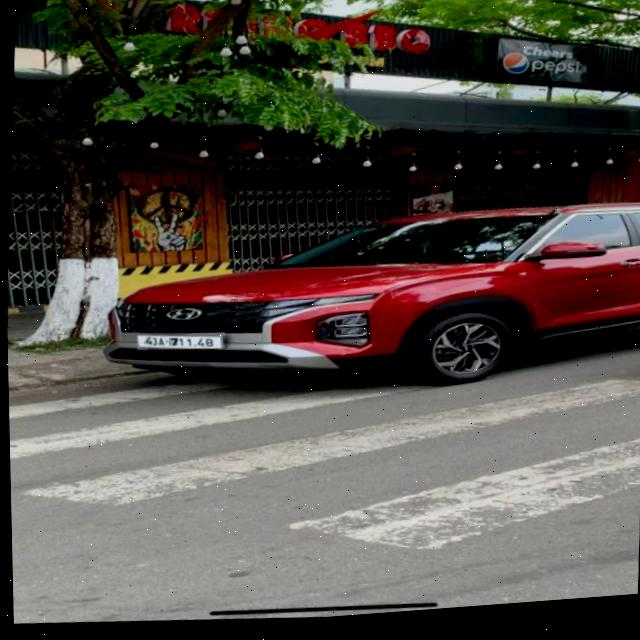car: (81, 167, 640, 430)
plate: (127, 321, 231, 364)
